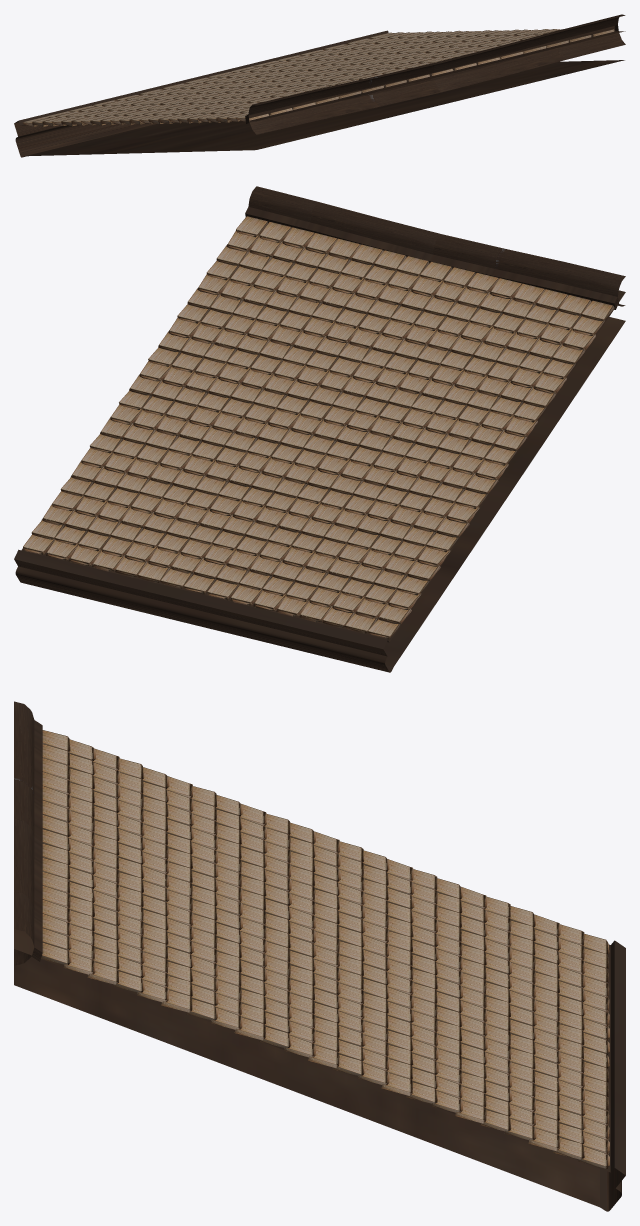
The model's file is OutdoorArchitecture_Roof02_Tiles_Mid_BShortt.fbx.
3 views of the same model, one above another, from view 1: azimuth 30°, elevation 25°; view 2: azimuth 150°, elevation 25°; view 3: azimuth 270°, elevation 25° (orthographic). The views are drawn at different scales.
Visible parts, largest first — view 1: OutdoorArchitecture_Roof02_Tiles_Mid_BShortt; view 2: OutdoorArchitecture_Roof02_Tiles_Mid_BShortt; view 3: OutdoorArchitecture_Roof02_Tiles_Mid_BShortt.
Part boxes in pixels (x1,y1,x2,y2): OutdoorArchitecture_Roof02_Tiles_Mid_BShortt: [14, 14, 625, 157]; OutdoorArchitecture_Roof02_Tiles_Mid_BShortt: [14, 186, 625, 672]; OutdoorArchitecture_Roof02_Tiles_Mid_BShortt: [14, 701, 625, 1211].
Bounding box in the file's own units: 300 × 174 × 341.
